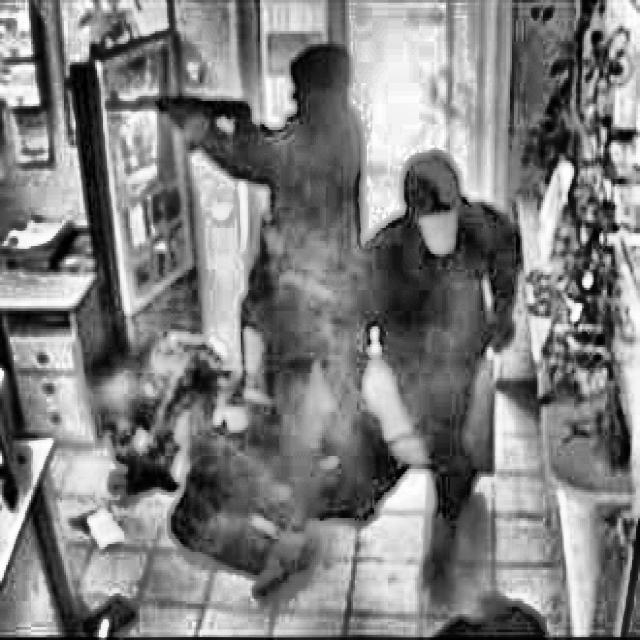pistol: (81, 84, 273, 172)
robbery: (46, 5, 534, 640)
